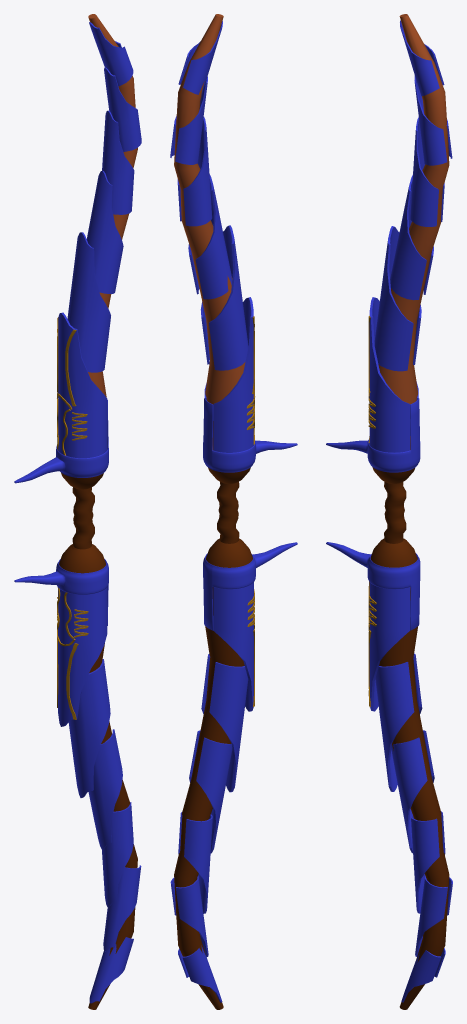
Rendered from bow.FBX.
3 renders of one model, left to right at view 1: azimuth 30°, elevation 25°; view 2: azimuth 210°, elevation 25°; view 3: azimuth 330°, elevation 25°, orthographic.
Parts seen in each view (by area): view 1: Sphere002; view 2: Sphere002; view 3: Sphere002.
Boxes of the visible parts, <box> form: Sphere002: <box>14,14,141,1009</box>; Sphere002: <box>170,14,297,1009</box>; Sphere002: <box>326,14,452,1009</box>.
Size of the model in its own units: 24.44 by 187 by 9.02.
